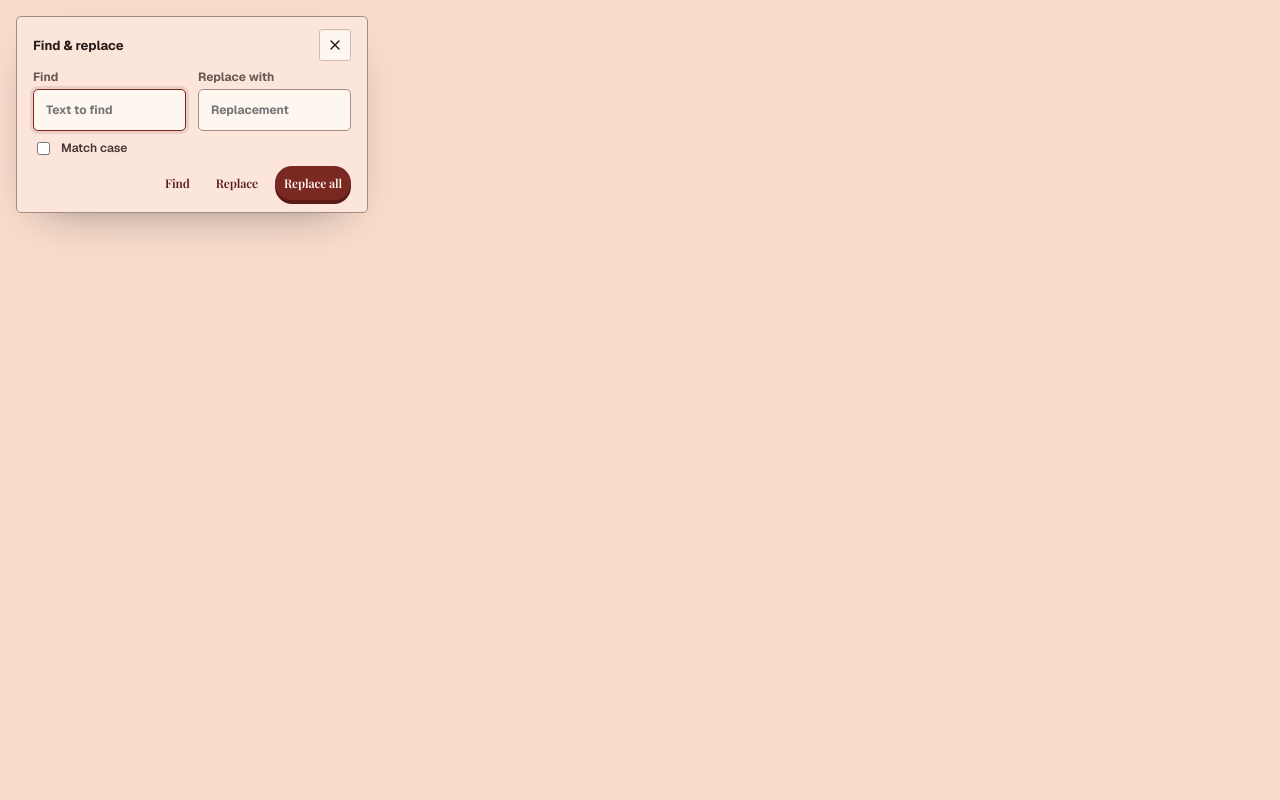
FindReplaceDialog - find › reports when nothing matches
Step 1. Type "zzz" into the field labelled "Find" → point(110, 110), box 33,89 -> 186,131
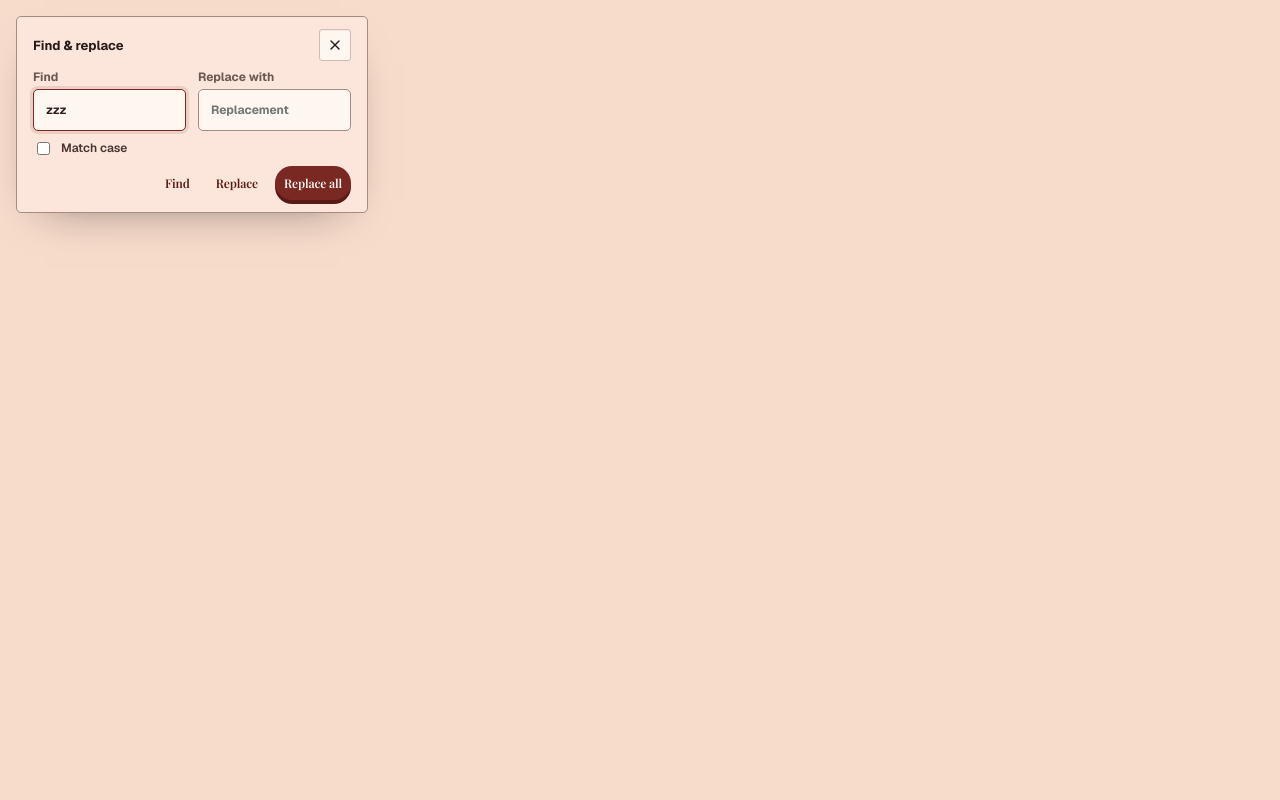
Step 2. Click the button "Find" → point(177, 183), box 156,166 -> 199,200
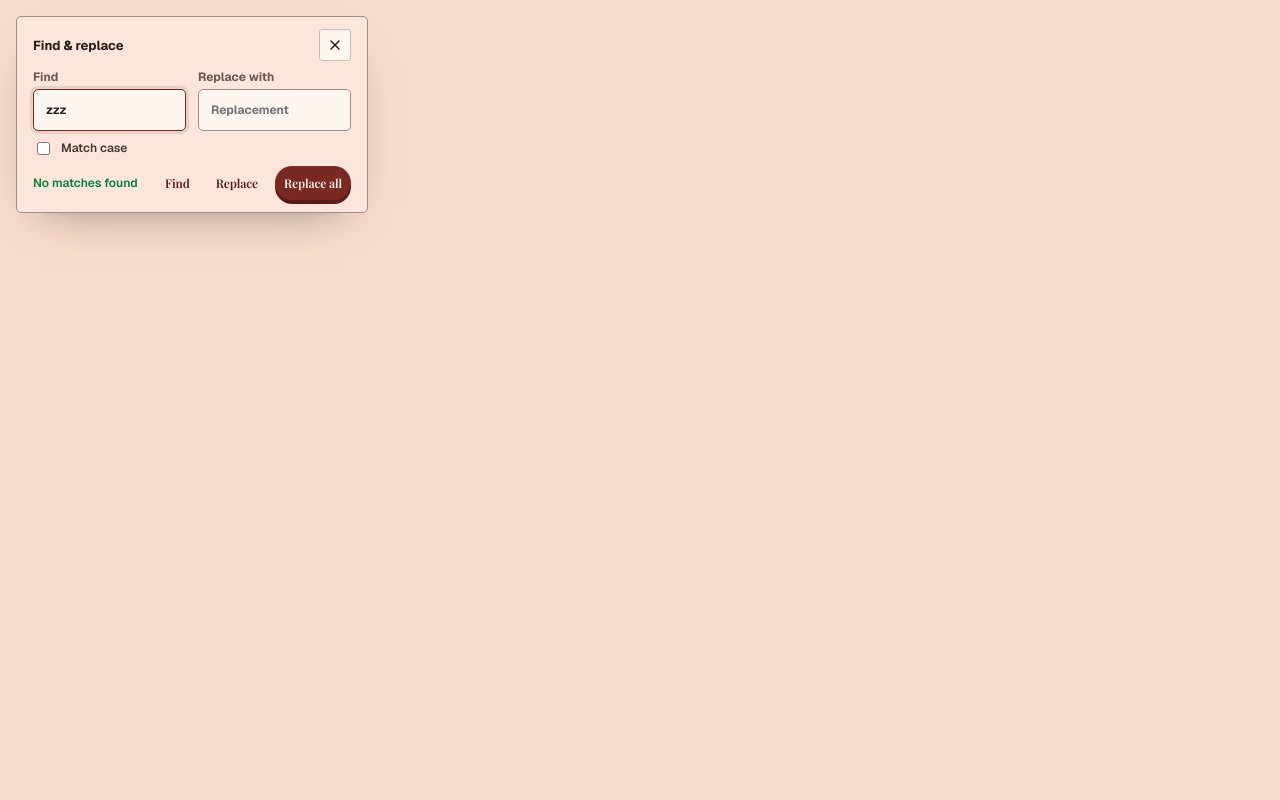
Result: the message reads "No matches found" at 33,175 -> 138,191
